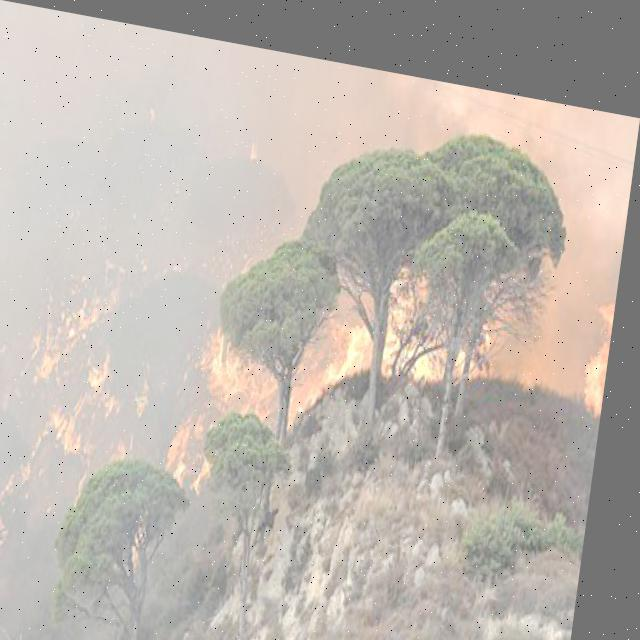Fire: (31, 210, 181, 513), (180, 293, 292, 498), (387, 259, 510, 370), (295, 266, 383, 420), (585, 273, 620, 390), (0, 513, 8, 639)
